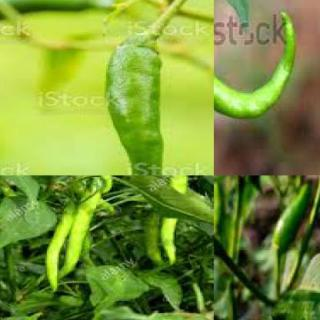green_chilli: (214, 0, 298, 125), (99, 36, 170, 175), (57, 195, 108, 280), (268, 183, 316, 252), (162, 175, 195, 267), (45, 198, 74, 292), (142, 209, 166, 268), (86, 176, 116, 196)
